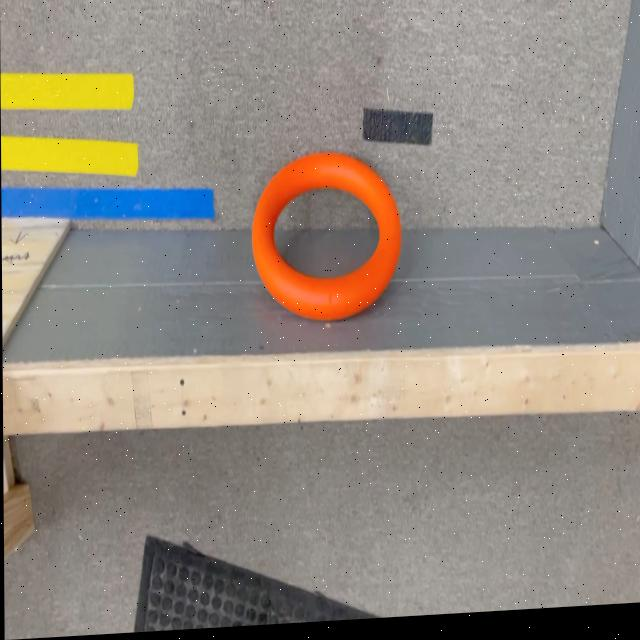note: (251, 149, 404, 331)
